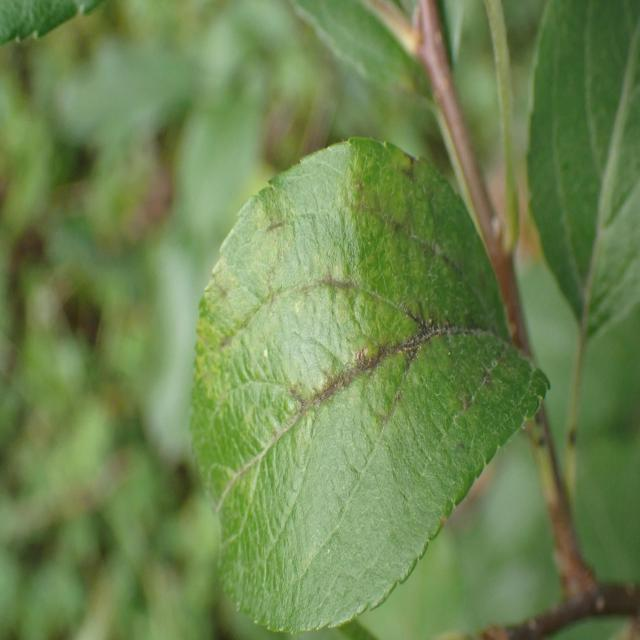scab: (212, 151, 553, 443)
